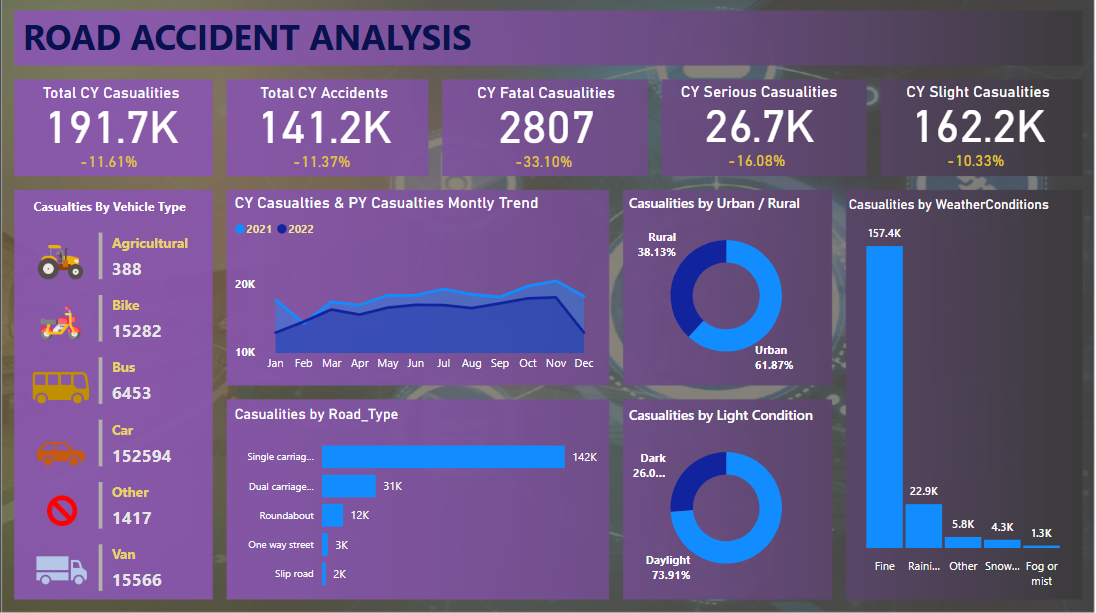

The dashboard page shown, as its layout file describes it:
{"tool":"powerbi","page":{"name":"Page 1","canvas":[1280,720],"ordinal":0},"visuals":[{"type":"card","title":"CY Slight Casualities","fields":{"Values":["Sheet1.CY Casualities"]},"box":[995.3,117.7,217.5,70],"z":0,"group":"g5"},{"type":"card","title":"CY Serious Casualities","fields":{"Values":["Sheet1.CY Casualities"]},"box":[759.5,118.2,217.5,70],"z":0,"group":"g4"},{"type":"group","id":"g1","title":"Group 1","box":[63.8,118.8,217.5,107.5],"z":0},{"type":"card","title":"Total CY Casualities","fields":{"Values":["Sheet1.CY Casualities"]},"box":[63.8,118.8,217.5,70],"z":0,"group":"g1"},{"type":"card","title":"Total CY Accidents","fields":{"Values":["Sheet1.CY accidents"]},"box":[292.4,118.8,217.5,70],"z":0,"group":"g2"},{"type":"card","title":"CY Fatal Casualities","fields":{"Values":["Sheet1.CY Casualities"]},"box":[531.1,118.8,217.5,70],"z":0,"group":"g3"},{"type":"group","id":"g2","title":"Group 1","box":[292.4,118.8,217.5,107.5],"z":1000},{"type":"card","fields":{"Values":["Sheet1.YOY Casualities"]},"box":[1051.5,181.5,100,43.8],"z":1000,"group":"g5"},{"type":"card","fields":{"Values":["Sheet1.YOY Casualities"]},"box":[815.7,182,100,43.8],"z":1000,"group":"g4"},{"type":"card","fields":{"Values":["Sheet1.YOY Casualities"]},"box":[120,182.6,100,43.8],"z":1000,"group":"g1"},{"type":"card","fields":{"Values":["Sheet1.YOY Accidents"]},"box":[348.6,182.6,100,43.8],"z":1000,"group":"g2"},{"type":"card","fields":{"Values":["Sheet1.YOY Casualities"]},"box":[587.3,182.6,100,43.8],"z":1000,"group":"g3"},{"type":"group","id":"g3","title":"Group 1","box":[531.1,118.8,217.7,107.8],"z":2000},{"type":"group","id":"g4","title":"Group 1","box":[759.5,118.2,218.5,108],"z":3000},{"type":"group","id":"g5","title":"Group 1","box":[995.3,117.7,217.4,107.6],"z":4000},{"type":"multiRowCard","fields":{"Values":["Sheet1.Vehicle_Type (groups)","Sheet1.CY Casualities"]},"box":[154,274.9,154,428.9],"z":5000},{"type":"image","box":[77,608.1,83.6,69.3],"z":6000},{"type":"image","box":[81.4,280.4,71.5,61.6],"z":7000},{"type":"image","box":[84.7,553.1,69.3,50.6],"z":8000},{"type":"image","box":[75.9,484.9,84.7,66],"z":9000},{"type":"image","box":[71.5,408,91.3,75.9],"z":10000},{"type":"image","box":[84.7,350.8,66,53.9],"z":11000},{"type":"textbox","box":[63.8,237.5,217.7,37.4],"z":12000},{"type":"areaChart","title":"CY Casualties & PY Casualties Montly Trend","fields":{"Category":["Calender.Month"],"Y":["Sum(Sheet1.Number_of_Casualties)"],"Series":["Calender.Date.Variation.Date Hierarchy.Year"]},"box":[300.2,237.5,398.1,201.2],"z":13000},{"type":"donutChart","title":"Casualities by Urban / Rural","fields":{"Y":["Sheet1.CY Casualities"],"Category":["Sheet1.Urban_or_Rural_Area"]},"box":[723.6,237.5,219.9,201.2],"z":14000},{"type":"donutChart","title":"Casualities by Light Condition","fields":{"Y":["Sheet1.CY Casualities"],"Category":["Sheet1.Light_Conditions (groups)"]},"box":[723.6,465.2,219.9,201.2],"z":15000},{"type":"barChart","title":"Casualities by Road_Type","fields":{"Y":["Sheet1.CY Casualities"],"Category":["Sheet1.Road_Type"]},"box":[300.2,465.2,406.9,212.2],"z":15001},{"type":"columnChart","title":"Casualities by WeatherConditions ","fields":{"Category":["Sheet1.Weather_Conditions (groups)"],"Y":["Sheet1.CY Casualities"]},"box":[962.2,241.9,247.4,428.9],"z":15002},{"type":"textbox","box":[71.5,38.5,534.4,60.5],"z":15003}]}

Visuals, with their boxes in screenshot pixels (x1, y1, x2, y2), scaled from the page's 1280x720 canvas onto the 1096x613 screenshot:
"CY Slight Casualities" card: select_region(852, 100, 1038, 160)
"CY Serious Casualities" card: select_region(650, 101, 837, 160)
"Group 1" group: select_region(55, 101, 241, 193)
"Total CY Casualities" card: select_region(55, 101, 241, 161)
"Total CY Accidents" card: select_region(250, 101, 437, 161)
"CY Fatal Casualities" card: select_region(455, 101, 641, 161)
"Group 1" group: select_region(250, 101, 437, 193)
card - Sheet1.YOY Casualities: select_region(900, 155, 986, 192)
card - Sheet1.YOY Casualities: select_region(698, 155, 784, 192)
card - Sheet1.YOY Casualities: select_region(103, 155, 188, 193)
card - Sheet1.YOY Accidents: select_region(298, 155, 384, 193)
card - Sheet1.YOY Casualities: select_region(503, 155, 589, 193)
"Group 1" group: select_region(455, 101, 641, 193)
"Group 1" group: select_region(650, 101, 837, 193)
"Group 1" group: select_region(852, 100, 1038, 192)
multiRowCard - Sheet1.Vehicle_Type (groups) x Sheet1.CY Casualities: select_region(132, 234, 264, 599)
image: select_region(66, 518, 138, 577)
image: select_region(70, 239, 131, 291)
image: select_region(73, 471, 132, 514)
image: select_region(65, 413, 138, 469)
image: select_region(61, 347, 139, 412)
image: select_region(73, 299, 129, 345)
textbox: select_region(55, 202, 241, 234)
"CY Casualties & PY Casualties Montly Trend" areaChart: select_region(257, 202, 598, 374)
"Casualities by Urban / Rural" donutChart: select_region(620, 202, 808, 374)
"Casualities by Light Condition" donutChart: select_region(620, 396, 808, 567)
"Casualities by Road_Type" barChart: select_region(257, 396, 605, 577)
"Casualities by WeatherConditions " columnChart: select_region(824, 206, 1036, 571)
textbox: select_region(61, 33, 519, 84)
